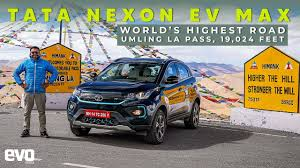Tata Nexon: (67, 56, 201, 148)
